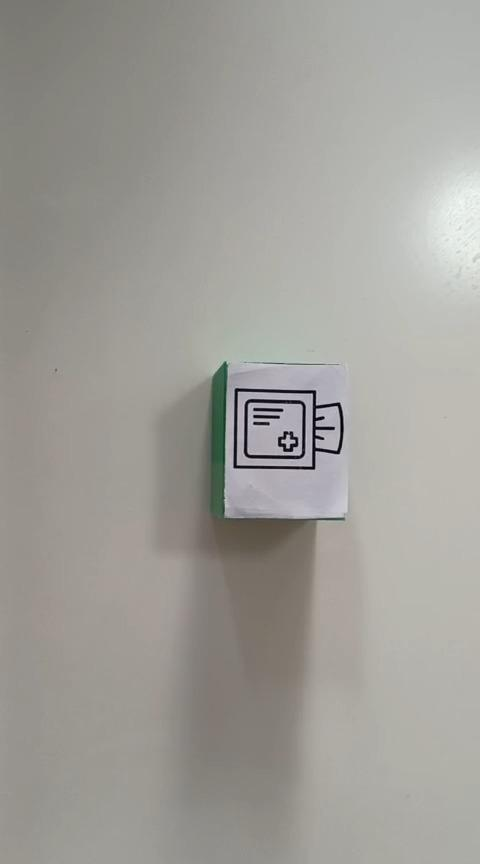Gauze: (209, 359, 350, 521)
